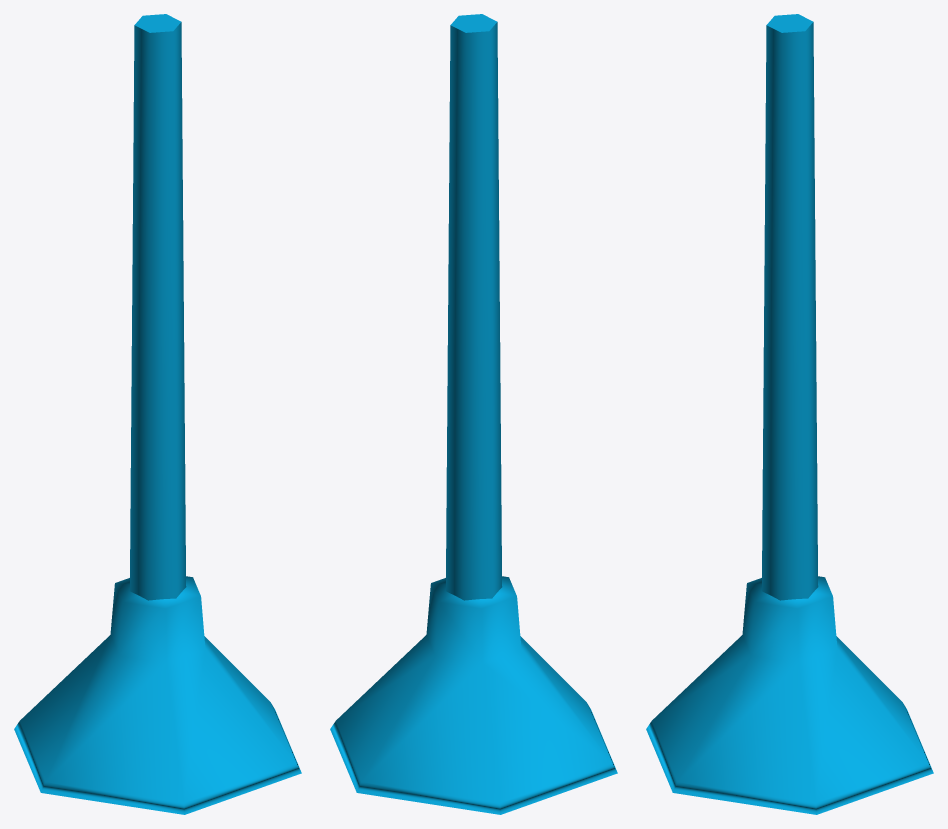
Rendered from Rubber_01_Lod1.fbx.
3 renders of one model, left to right at view 1: azimuth 30°, elevation 25°; view 2: azimuth 150°, elevation 25°; view 3: azimuth 270°, elevation 25°, orthographic.
Parts seen in each view (by area): view 1: Rubber_01_Lod1; view 2: Rubber_01_Lod1; view 3: Rubber_01_Lod1.
Boxes of the visible parts, left/top/right/bottom form: Rubber_01_Lod1: left=14, top=14, right=301, bottom=814; Rubber_01_Lod1: left=330, top=14, right=617, bottom=814; Rubber_01_Lod1: left=646, top=14, right=933, bottom=814.
Size of the model in its own units: 13.56 by 36.12 by 12.95.
